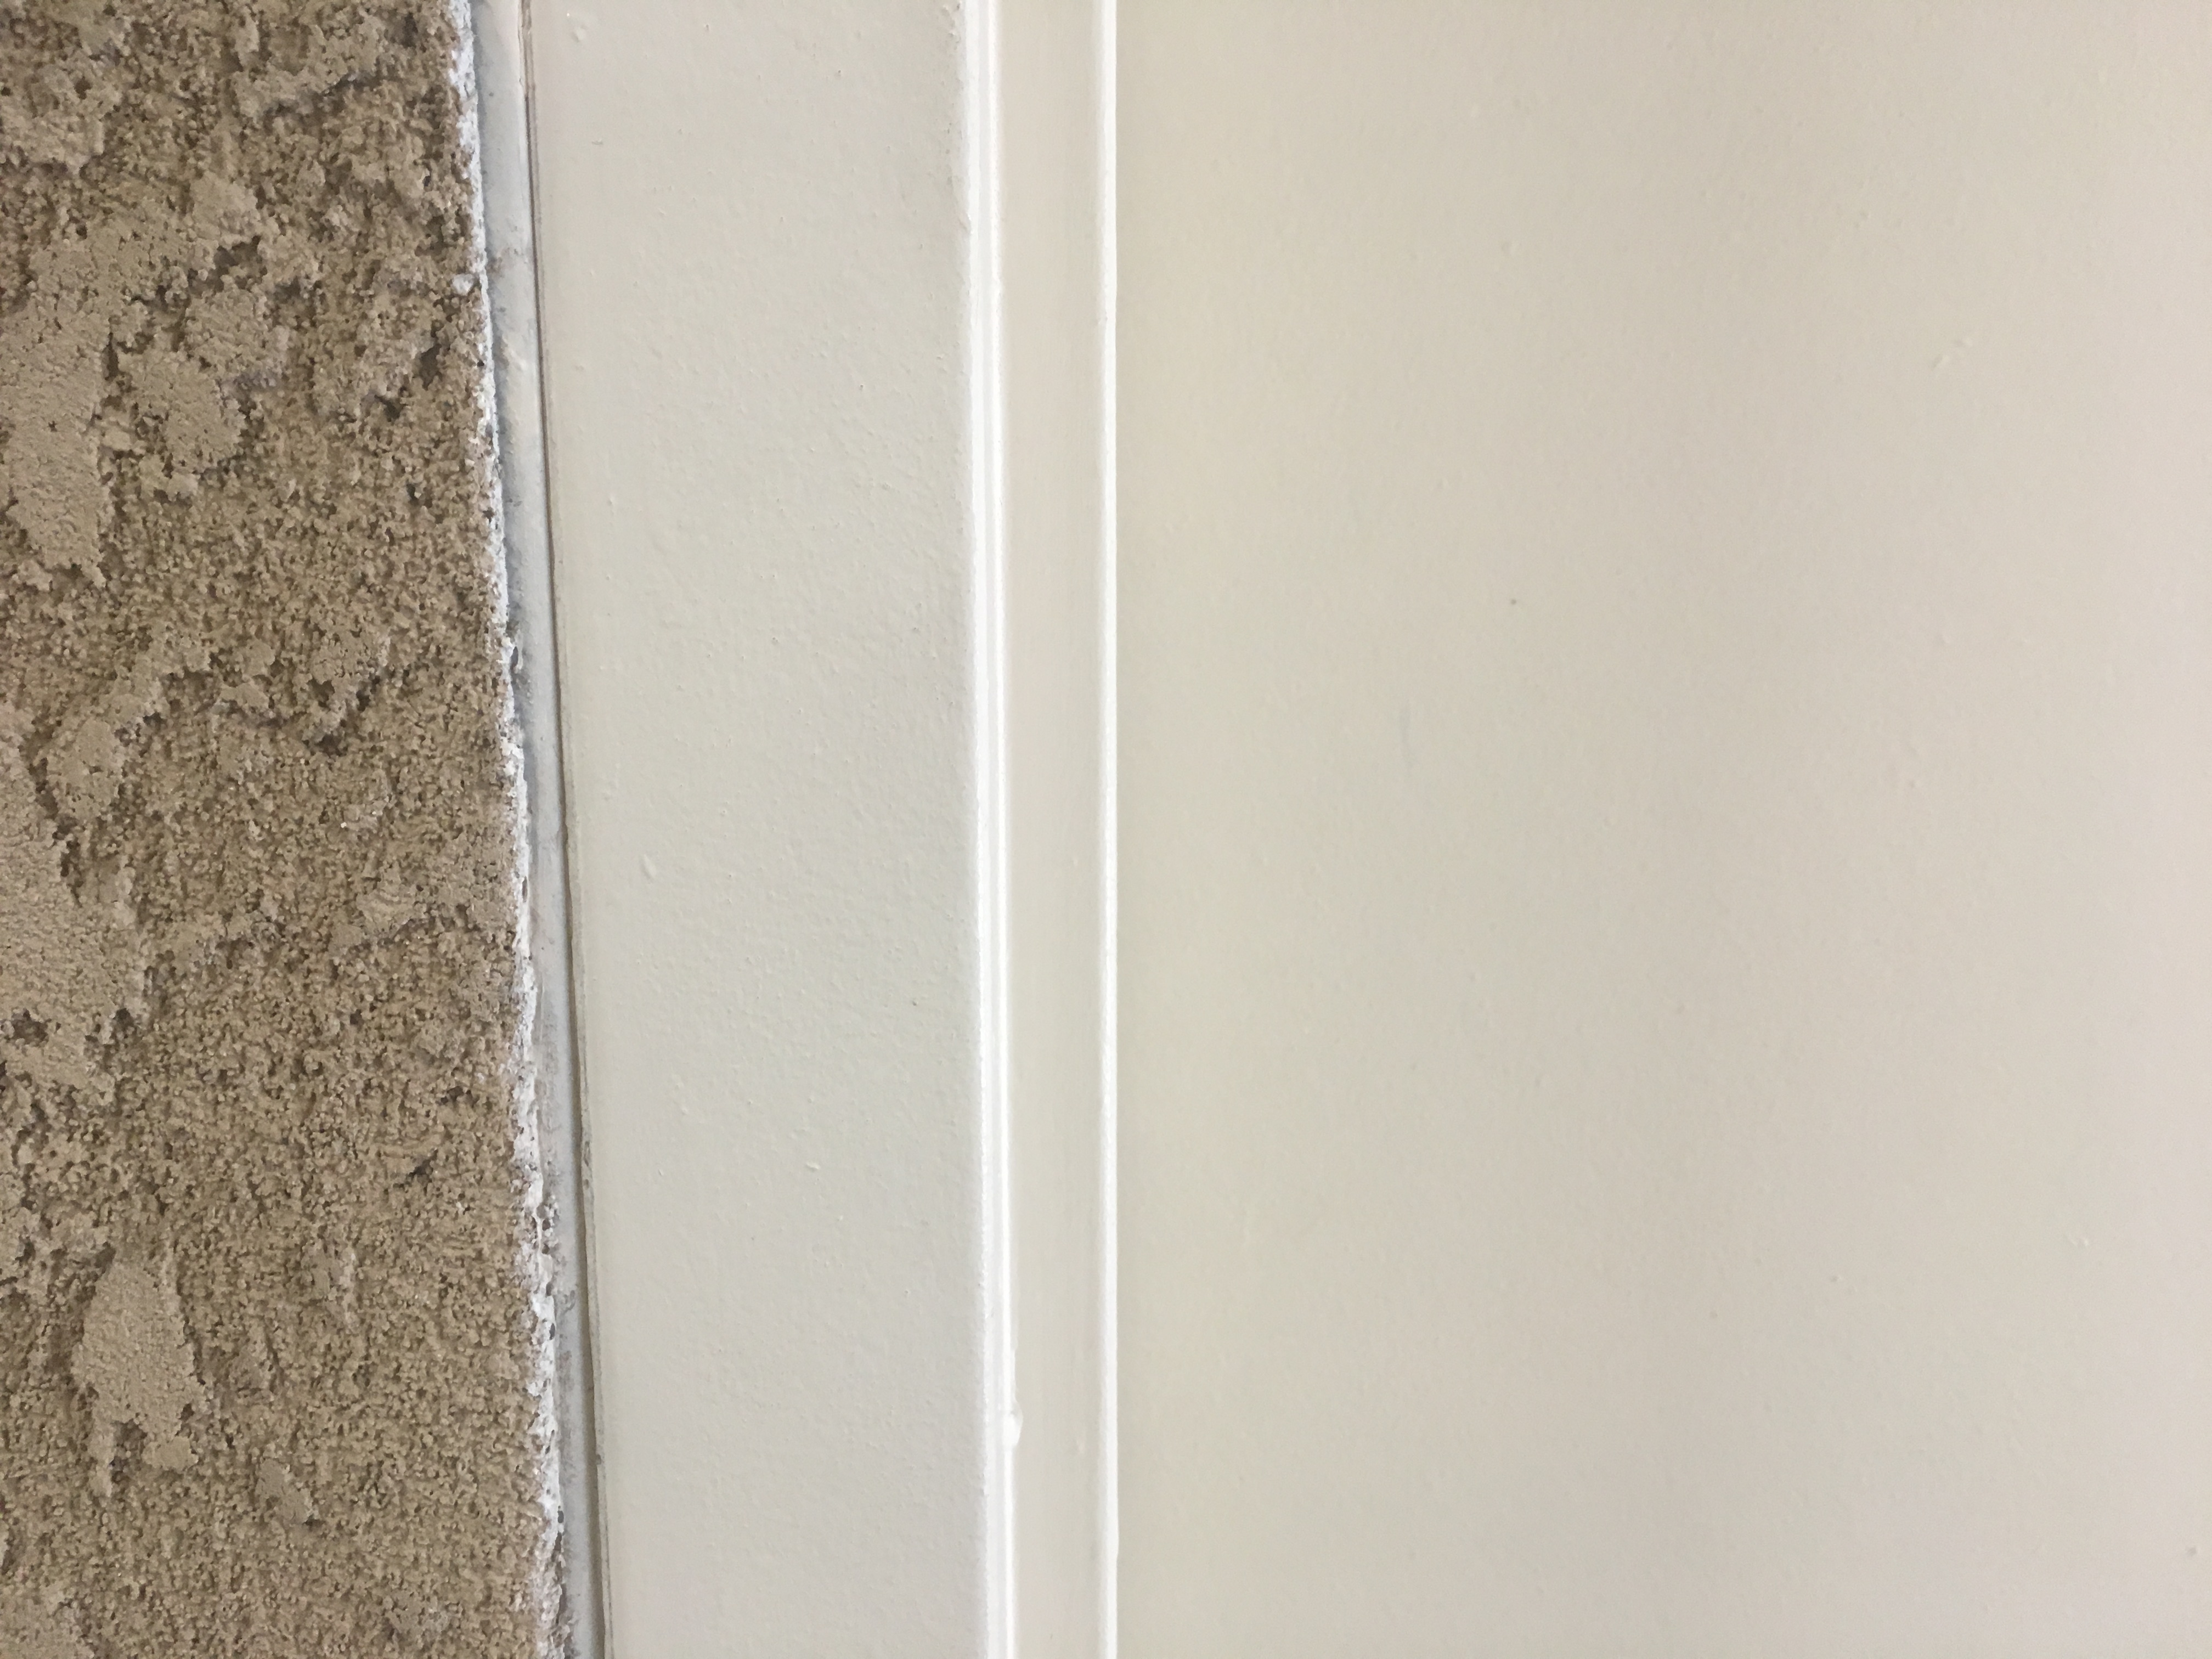Obstacle: (3, 5, 580, 1617)
